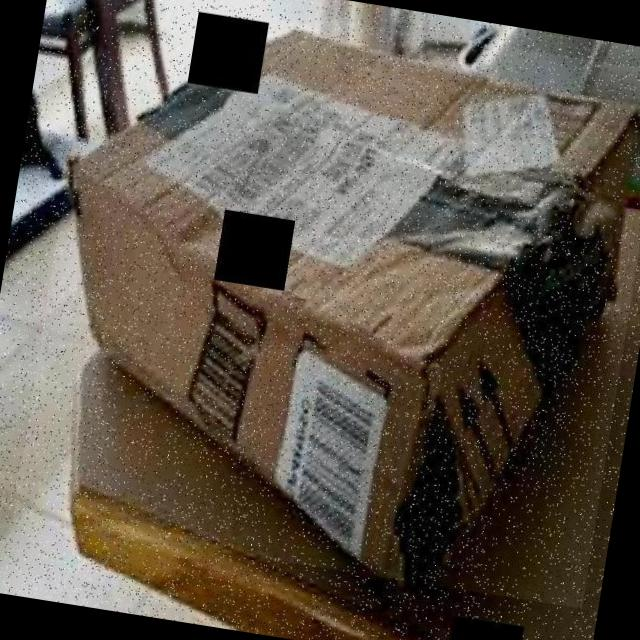box: (13, 0, 640, 609)
